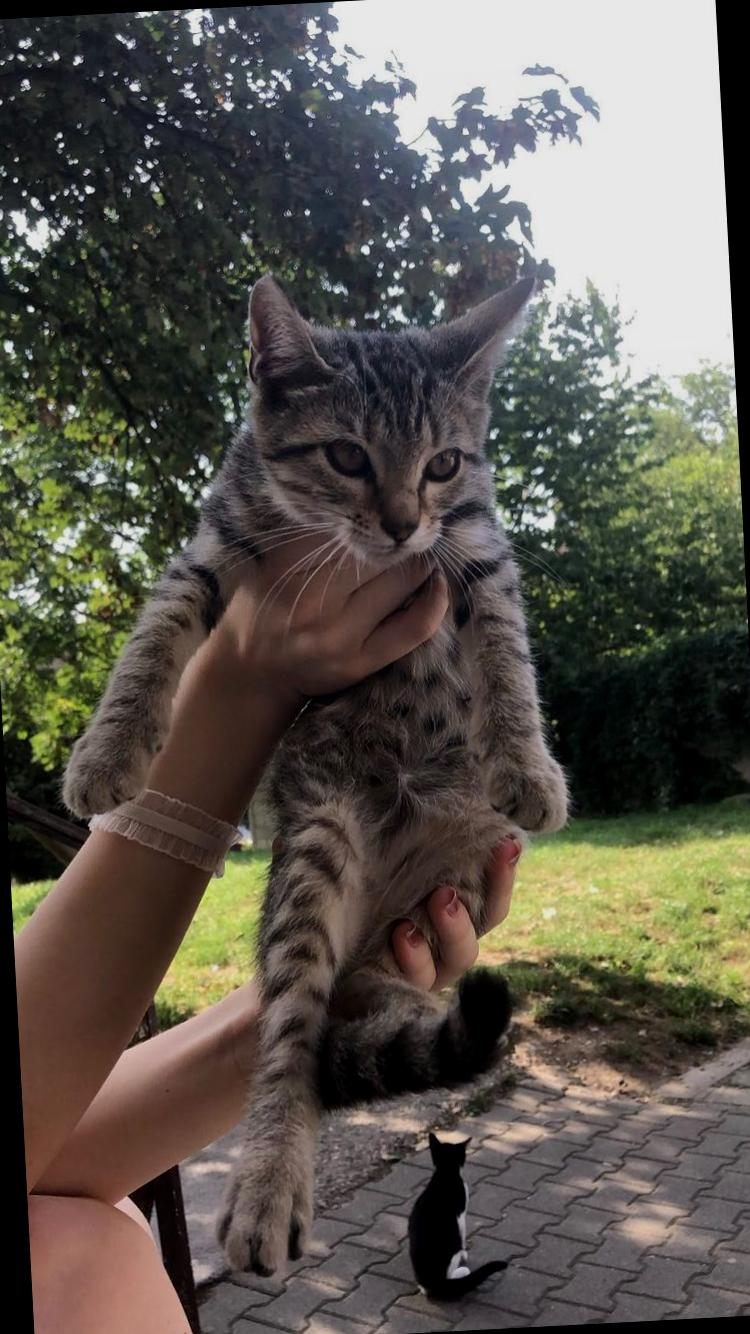macka: (32, 254, 598, 1286)
